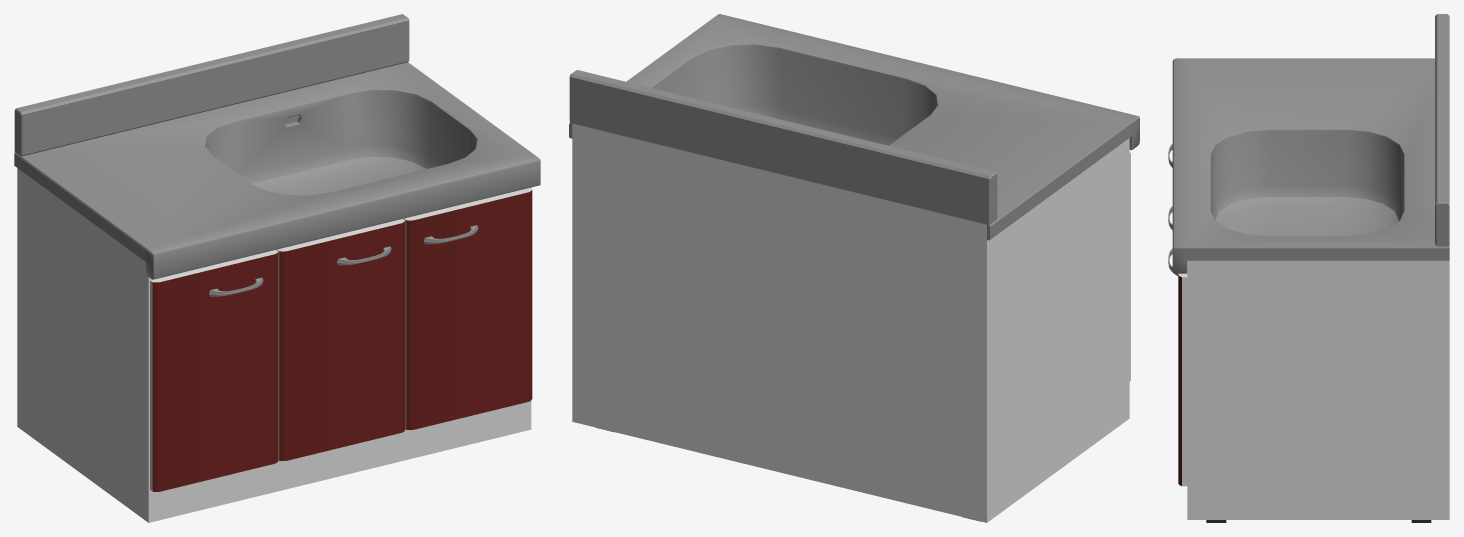
3 views of the same model, side by side, from view 1: azimuth 30°, elevation 25°; view 2: azimuth 150°, elevation 25°; view 3: azimuth 270°, elevation 25° (orthographic). The views are drawn at different scales.
Parts seen in each view (by area): view 1: KC100W1; view 2: KC100W1; view 3: KC100W1.
Boxes of the visible parts, x1=… form: KC100W1: x1=14, y1=14, x2=540, y2=522; KC100W1: x1=569, y1=14, x2=1139, y2=522; KC100W1: x1=1168, y1=14, x2=1449, y2=522.
Size of the model in its own units: 2261 by 1829 by 1422.
